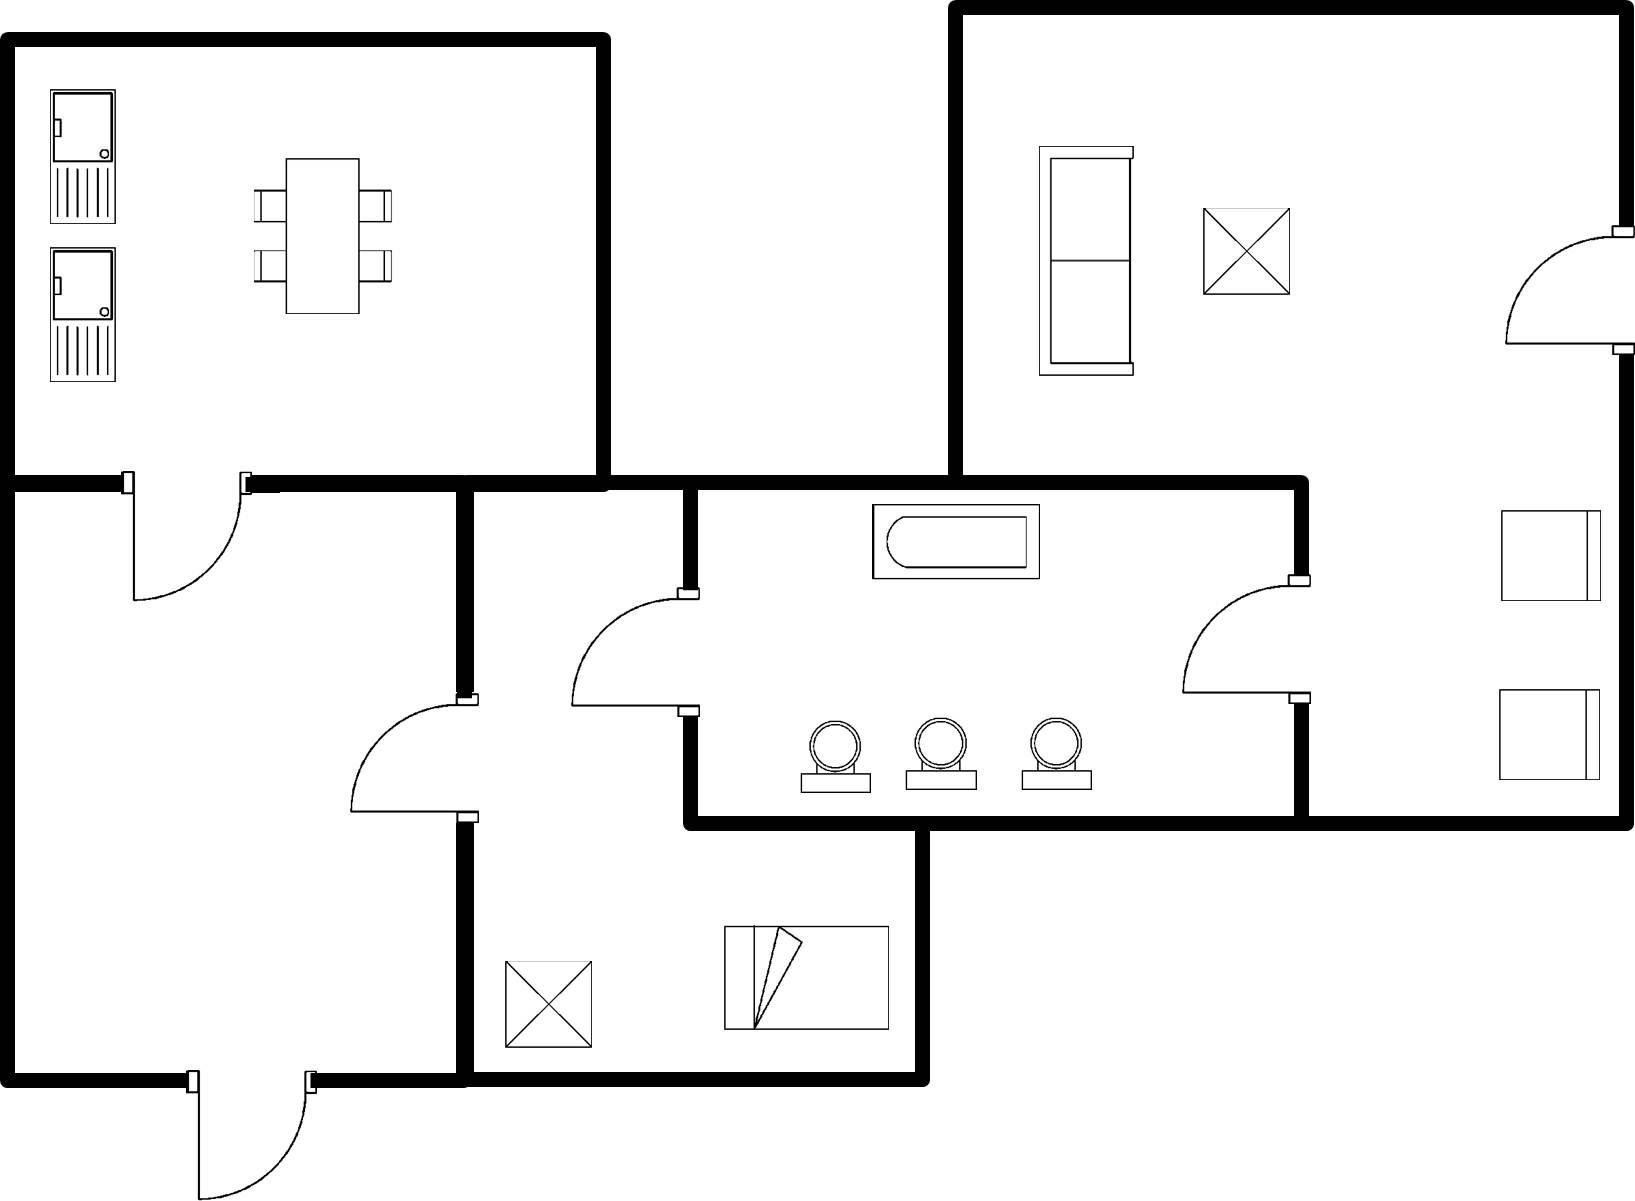bed: (713, 917, 897, 1038)
dining_table: (242, 146, 402, 322)
sink: (41, 242, 124, 391), (39, 80, 121, 231)
sofa: (1032, 137, 1141, 383)
toilet: (1010, 712, 1104, 800), (790, 712, 878, 801), (897, 712, 990, 797)
tub: (864, 496, 1050, 592)
